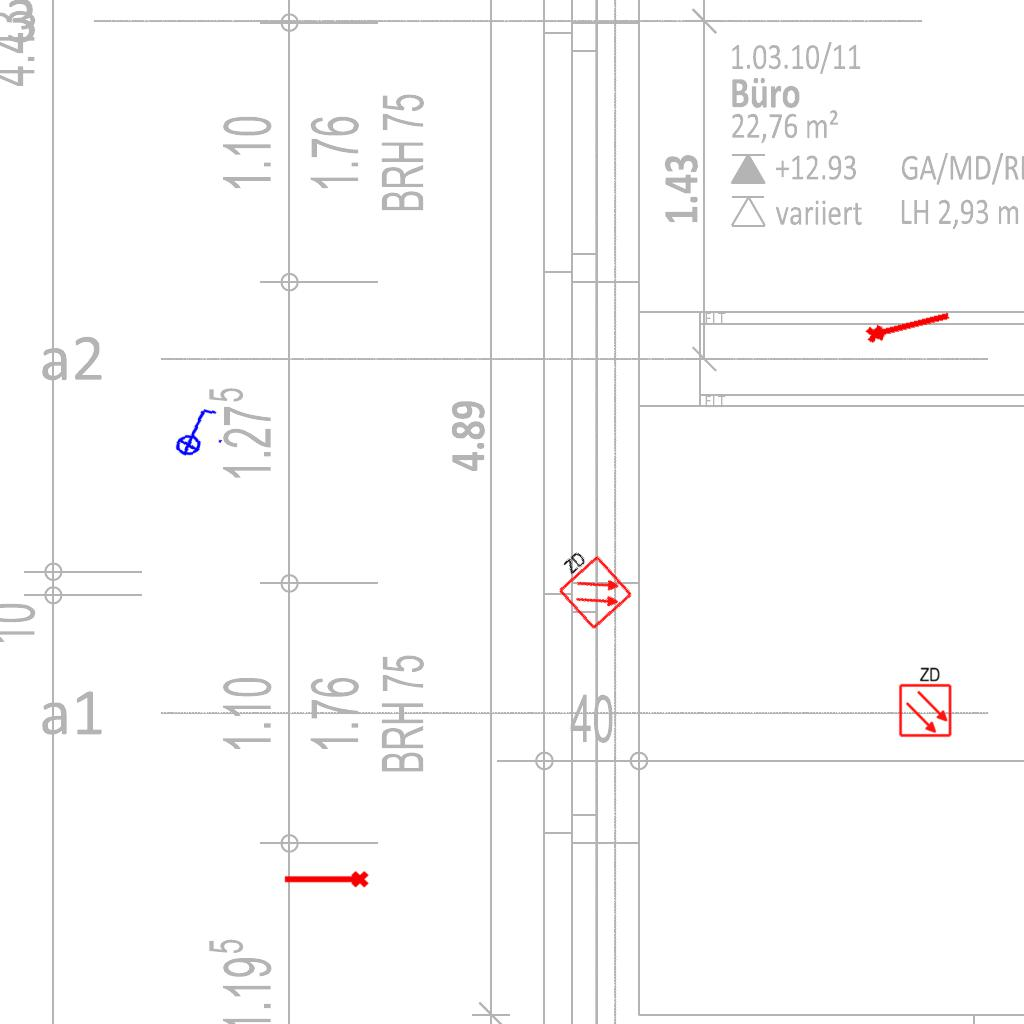ASR_Ansaugoeffnung: (862, 302, 954, 347), (282, 869, 370, 892)
Ausschalter_beleuchtet: (163, 403, 227, 459)
ZD_Melder_in_Zwischendecke_mit_Revisionsoeffnung_mind_40_x_40_cm: (542, 539, 635, 633), (896, 664, 953, 738)
